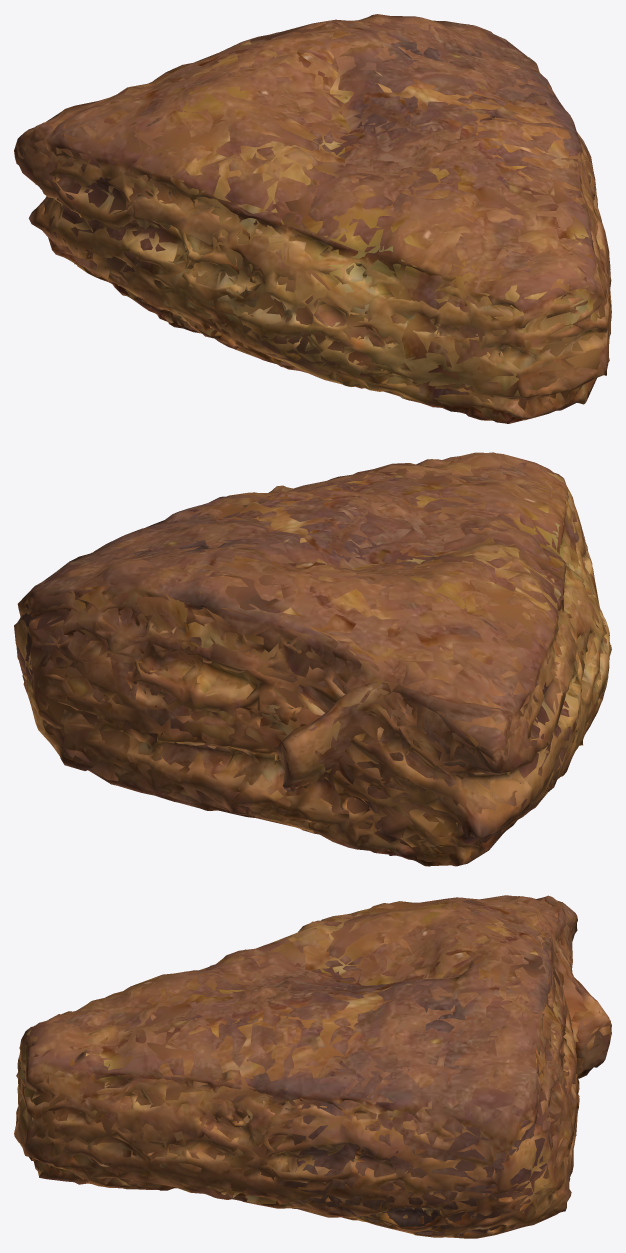
File: bread-loaf.glb
The picture shows the model from 3 angles, top to bottom: view 1: azimuth 30°, elevation 25°; view 2: azimuth 150°, elevation 25°; view 3: azimuth 270°, elevation 25°; orthographic projection. The views are drawn at different scales.
Parts seen in each view (by area): view 1: bread-loaf; view 2: bread-loaf; view 3: bread-loaf.
Part boxes in pixels (<box>): bread-loaf: <box>14,14,611,423</box>; bread-loaf: <box>14,452,611,866</box>; bread-loaf: <box>14,895,611,1238</box>.
Size of the model in its own units: 0.1075 by 0.0446 by 0.1203.
1 material, 1 textured.
